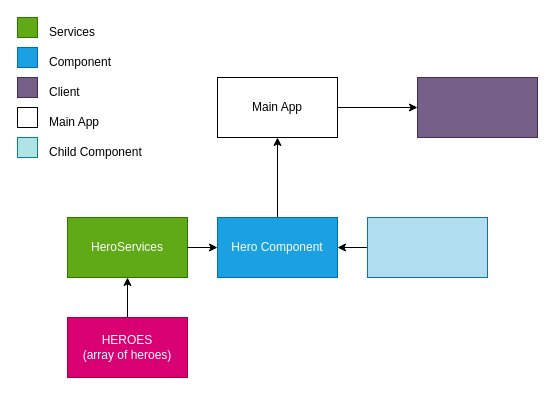
This 555x395 diagram has some shape labels left out. The shapes that lost their labels are listed below. From the top down, each one's centre as x and y in pixels, then its label:
pixel 477 107: Client Browser
pixel 427 247: HeroDetails
